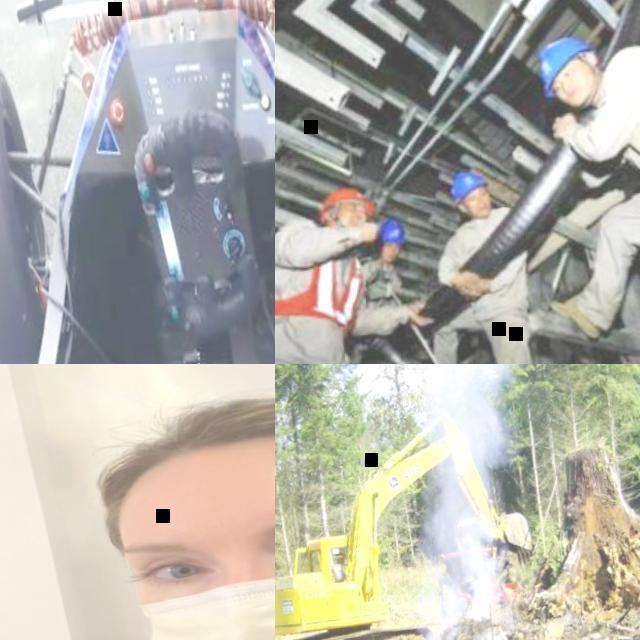helmet: (533, 32, 596, 90), (316, 183, 376, 220), (448, 167, 494, 205), (380, 220, 406, 247)
vest: (275, 246, 370, 336)
